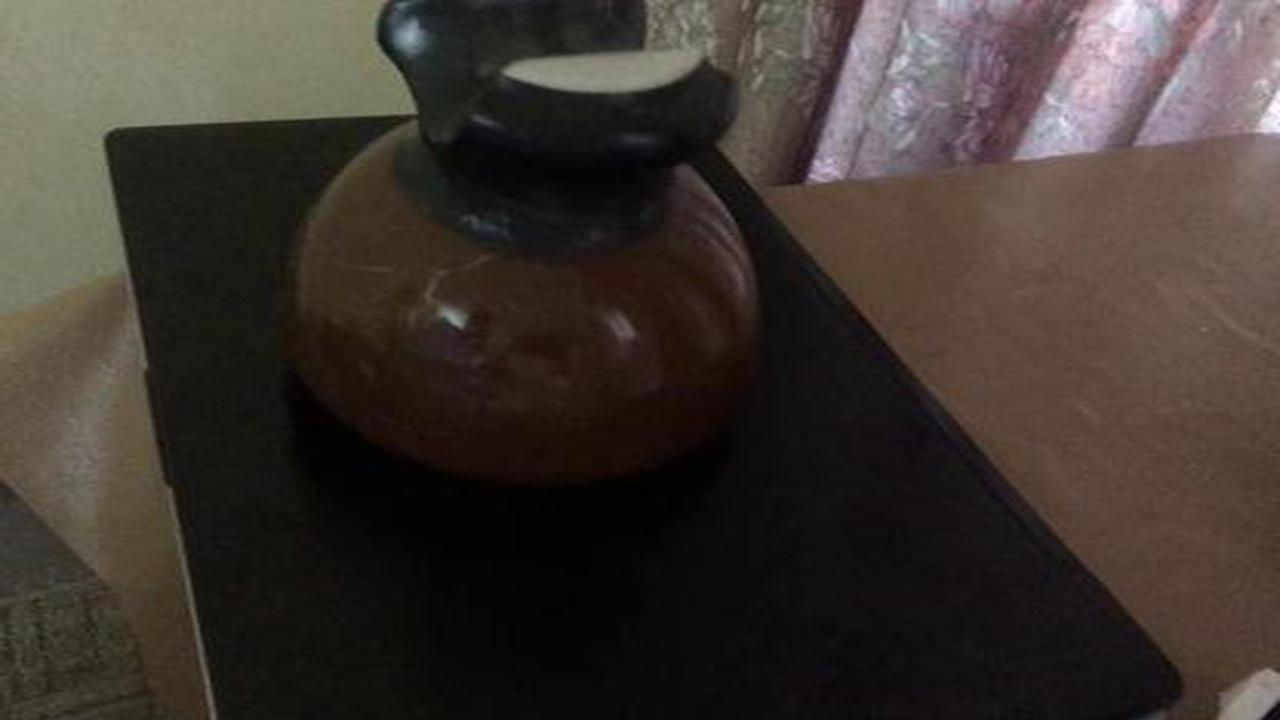insulator_pin: (256, 4, 779, 492)
